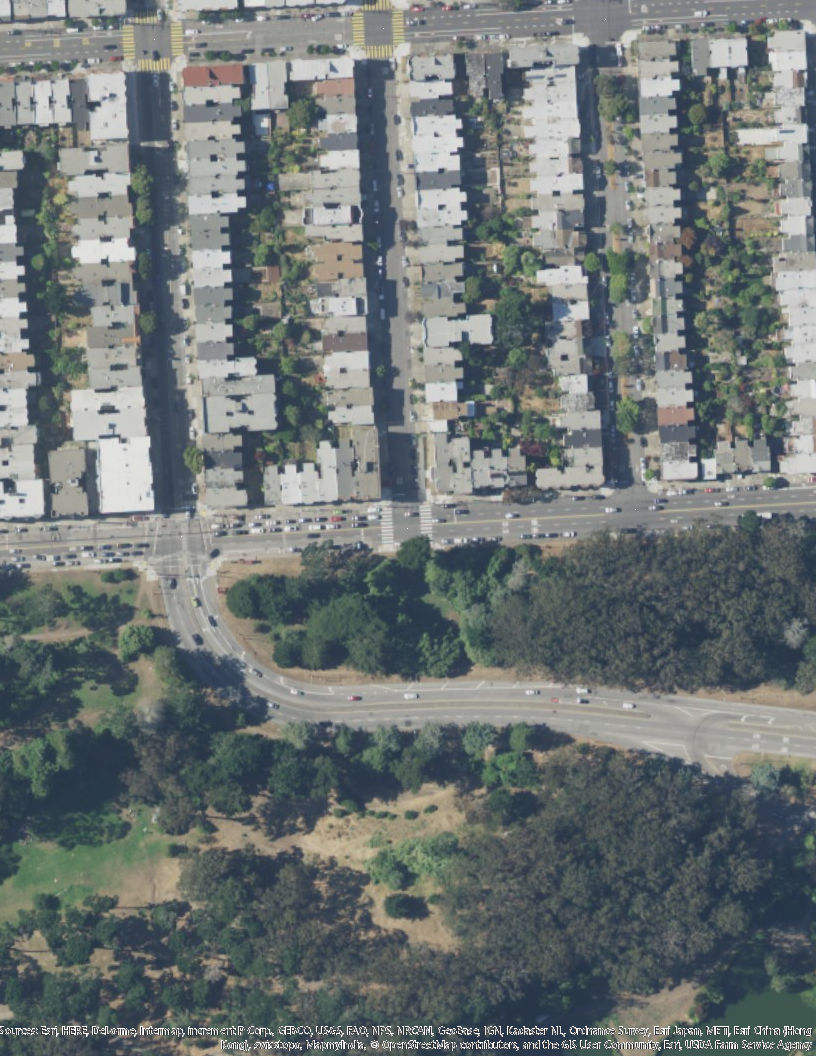zebracross: (379, 505, 395, 548), (350, 11, 366, 47), (419, 503, 433, 541), (169, 22, 184, 56), (392, 12, 406, 45), (123, 25, 136, 59), (139, 59, 169, 73), (134, 10, 162, 24), (366, 46, 394, 59), (364, 1, 392, 12)
